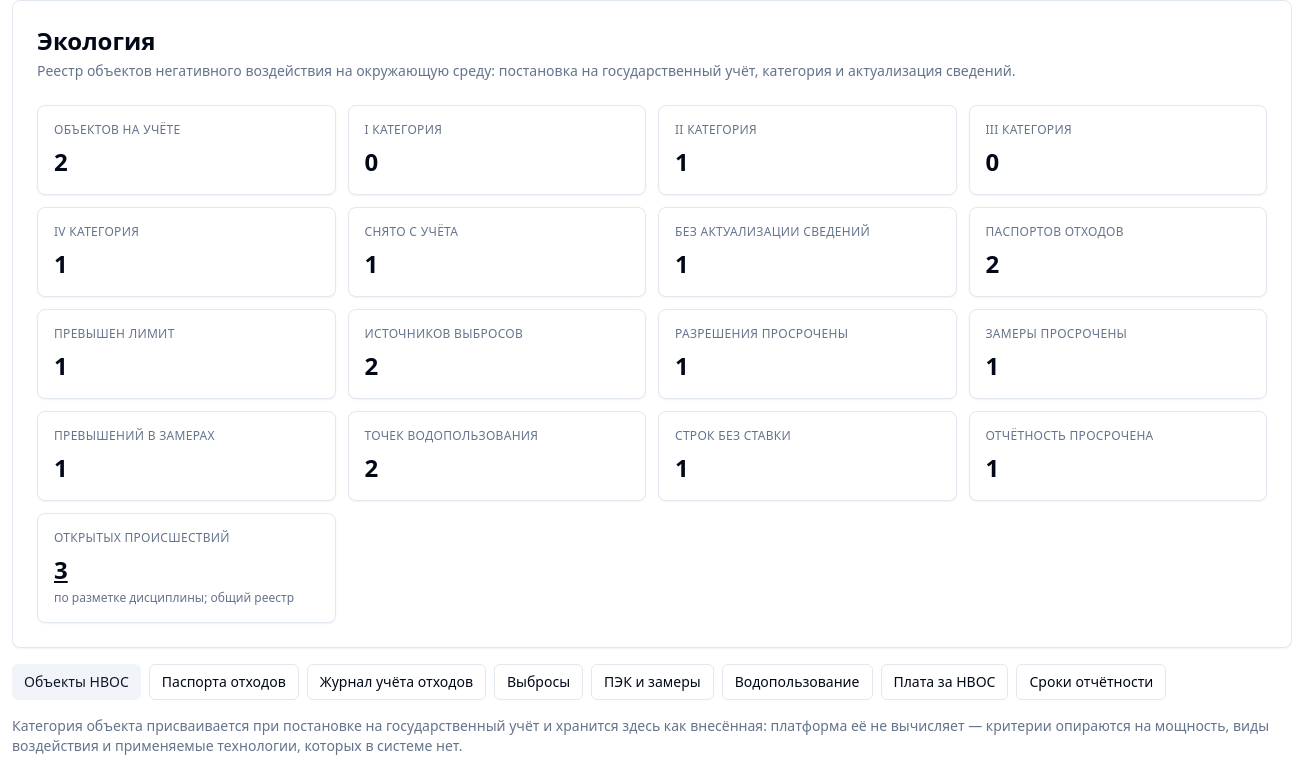
EcologyPage › журнал учёта отходов открывается третьей секцией
Click the button "Журнал учёта отходов" at (396, 682), box [307, 664, 486, 700]
(page scrolled)
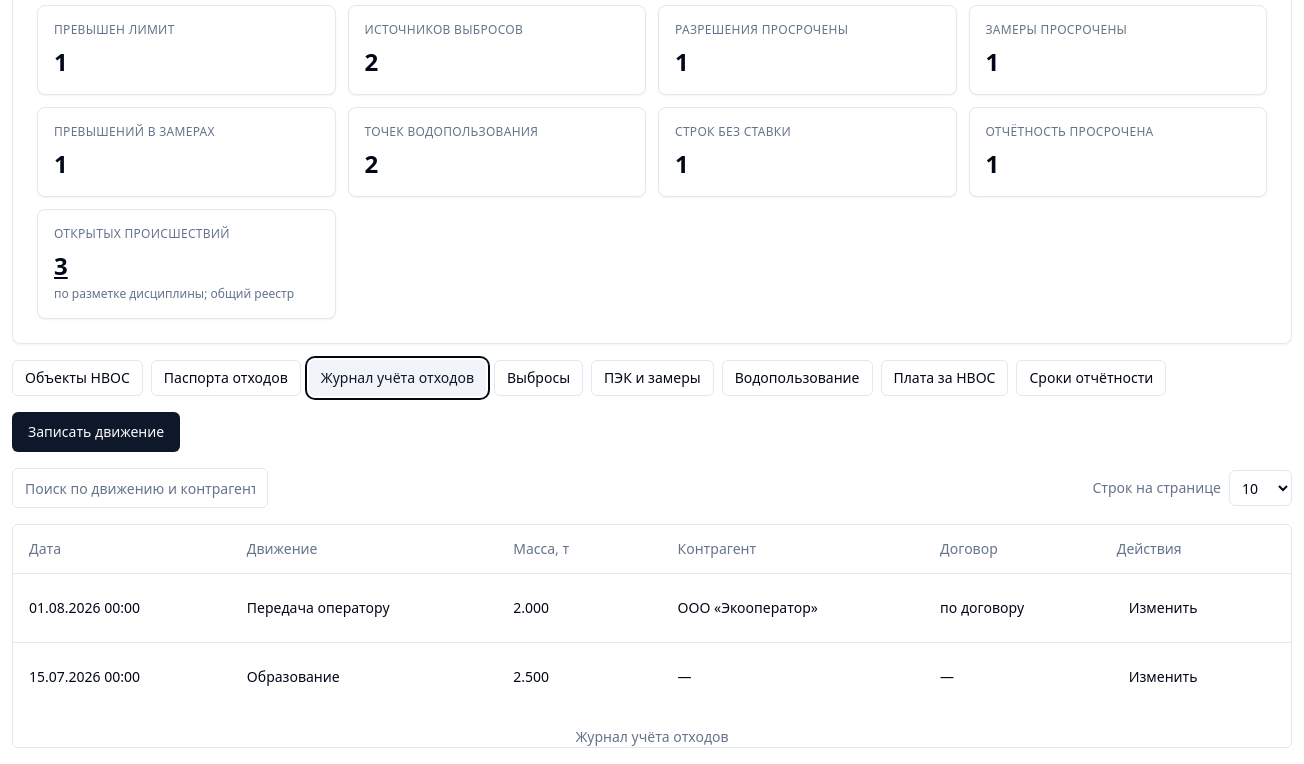
Check: the text "Передача оператору" is shown, box [231, 573, 497, 642]
Check: the text "Образование" is shown, box [231, 642, 497, 710]
Check: the text "ООО «Экооператор»" is shown, box [662, 573, 924, 642]
